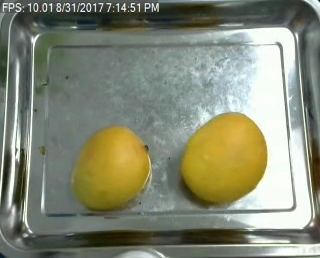Mango: (178, 110, 268, 205), (66, 125, 150, 211)
